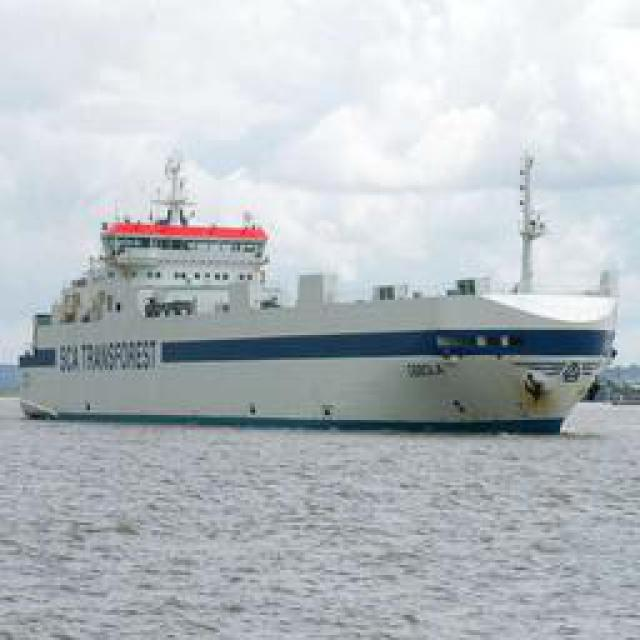Ship: (22, 155, 610, 430)
